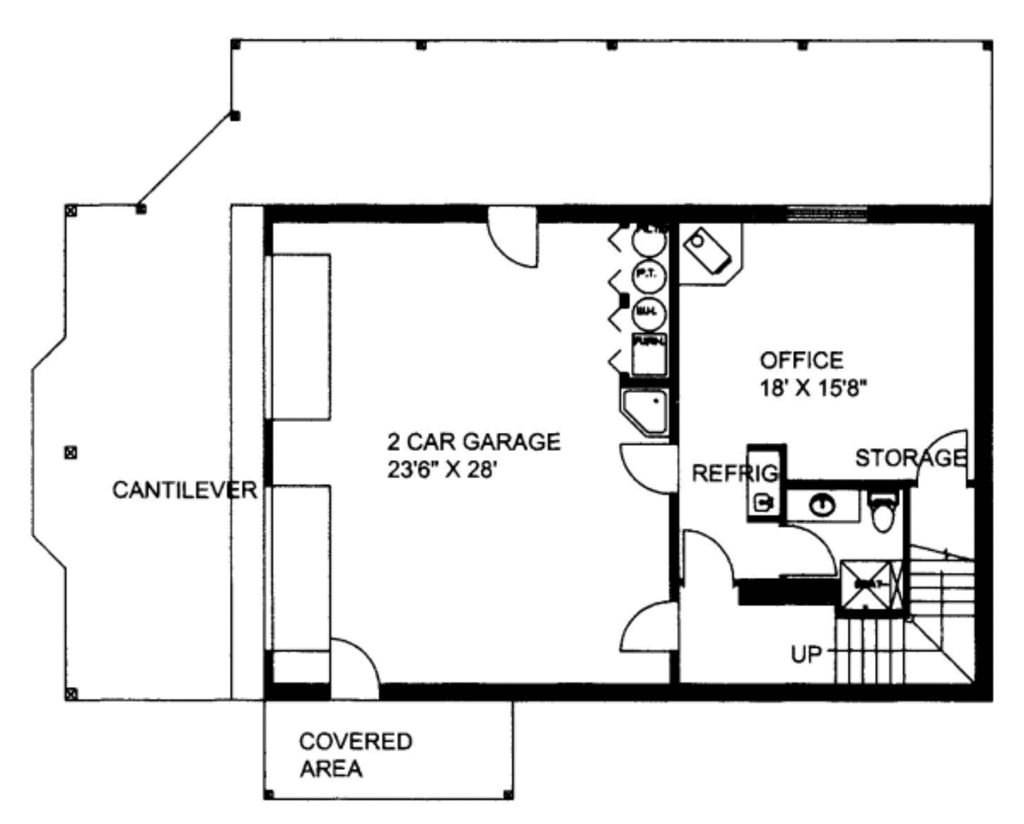door: (478, 195, 555, 275), (322, 637, 395, 709), (674, 524, 746, 592), (610, 590, 683, 656), (772, 513, 845, 578), (619, 433, 687, 501), (915, 415, 975, 484)
large_sink: (866, 487, 907, 533)
small_sink: (788, 477, 861, 520)
stairs: (820, 546, 988, 691)
